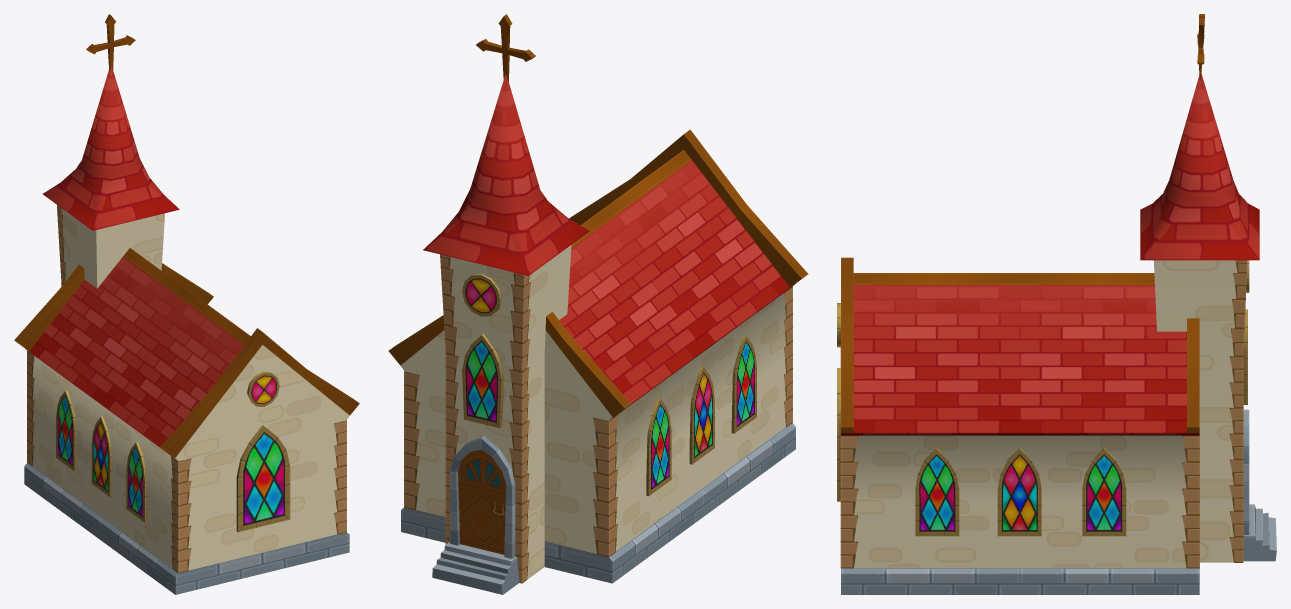
File: HOS0110017.fbx
3 renders of one model, left to right at view 1: azimuth 30°, elevation 25°; view 2: azimuth 150°, elevation 25°; view 3: azimuth 270°, elevation 25°, orthographic. The views are drawn at different scales.
Visible parts, largest first — view 1: smHOS0110017; view 2: smHOS0110017; view 3: smHOS0110017.
Part boxes in pixels (x1,y1,x2,y2): smHOS0110017: (14,14,359,594); smHOS0110017: (388,14,808,594); smHOS0110017: (837,14,1276,594).
Size of what is drawn, in the model's own units: 607 by 1334 by 1002.
1 material, 1 textured.
